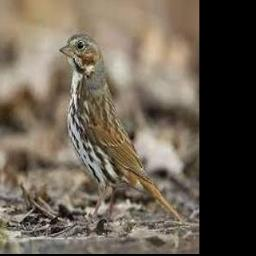Sparrow: (58, 33, 183, 222)
